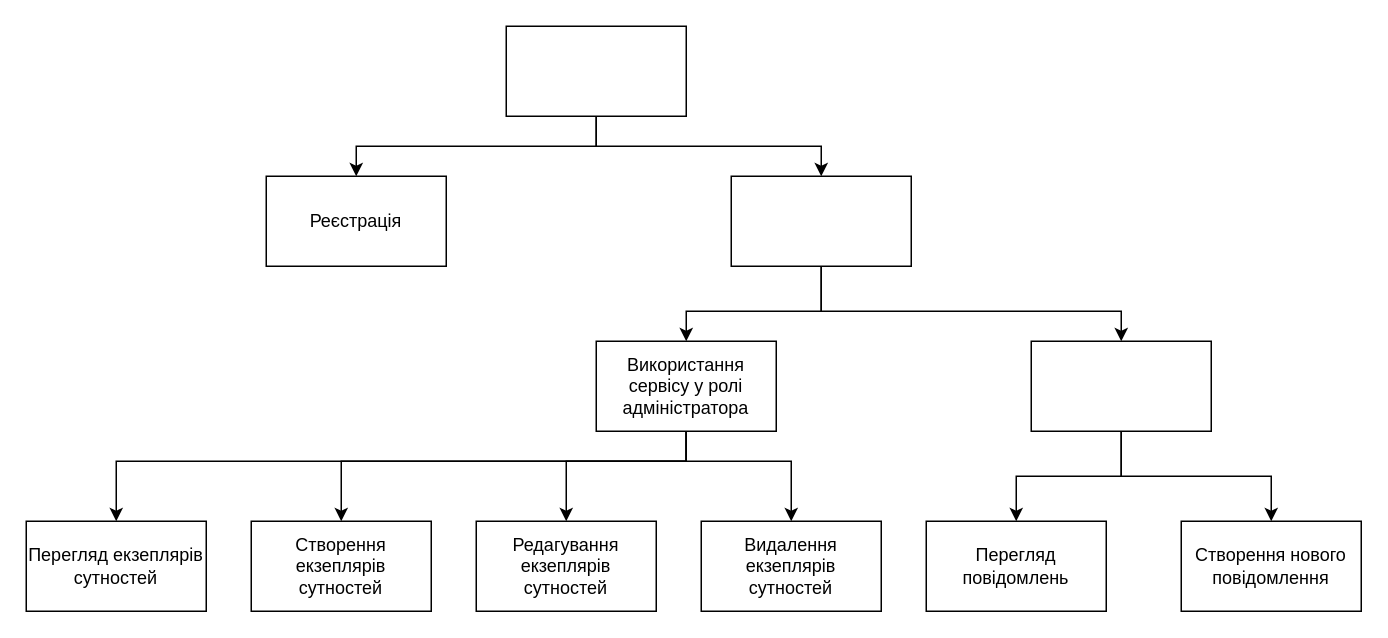
Image size: 1388x638. Some labels were removed from this diagram. The centre of each missing label's shape, as x and y in pixels:
"Авторизація" belongs at (820,220).
"Використання сервісу" belongs at (595,70).
"Використання сервісу у ролі клієнта" belongs at (1120,385).
